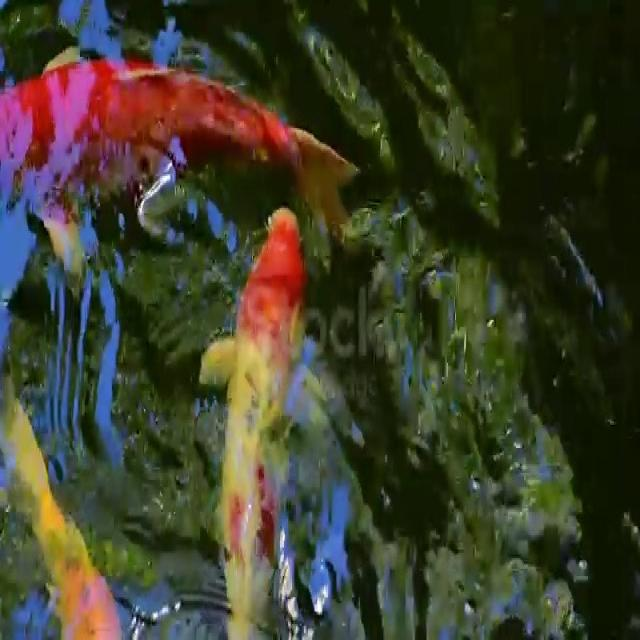fish: (0, 31, 353, 238), (198, 178, 354, 640), (0, 373, 125, 639)
